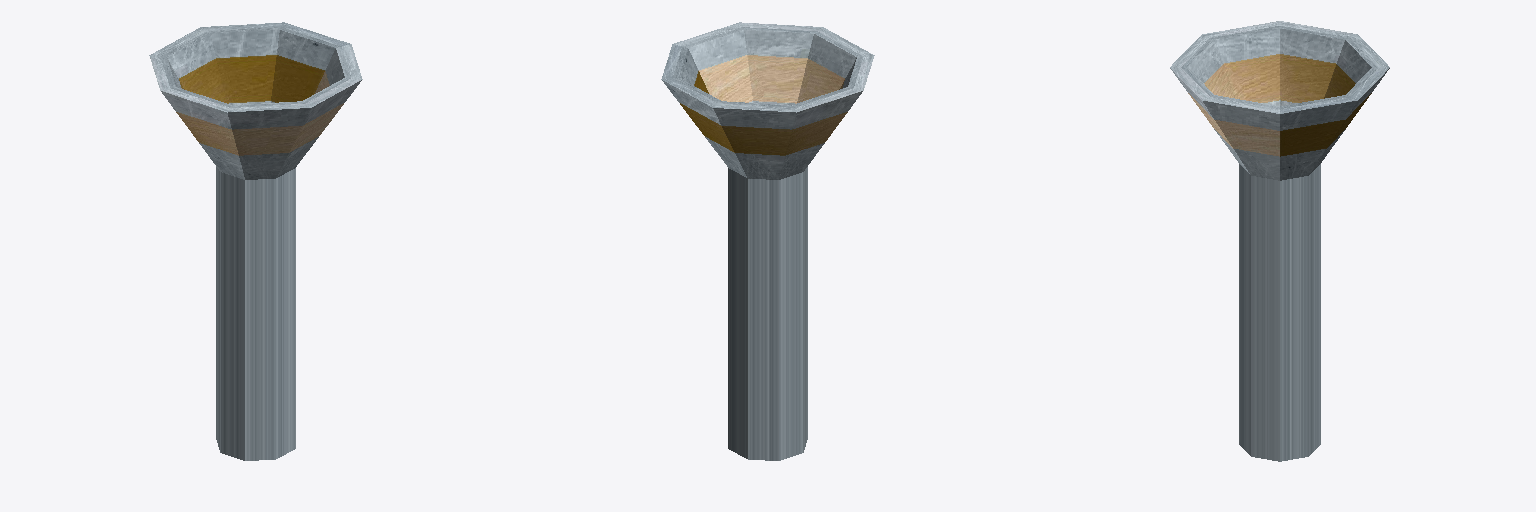
3 renders of one model, left to right at view 1: azimuth 30°, elevation 25°; view 2: azimuth 150°, elevation 25°; view 3: azimuth 270°, elevation 25°, orthographic.
Parts seen in each view (by area): view 1: pPipe1; view 2: pPipe1; view 3: pPipe1.
Boxes of the visible parts, x1,y1,x2,y2 form: pPipe1: [149, 22, 362, 460]; pPipe1: [661, 22, 874, 460]; pPipe1: [1170, 21, 1389, 461].
Bounding box in the file's own units: 4.7 × 8.85 × 4.7.
Materials: 1 (1 with a texture image).